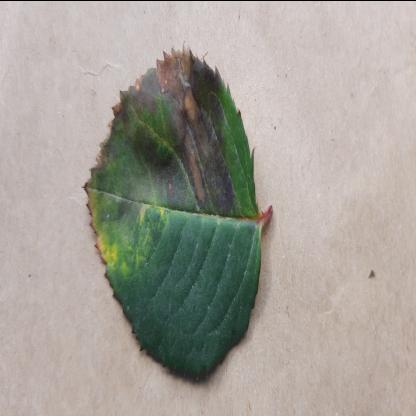powdery-mildew: (86, 41, 262, 381)
